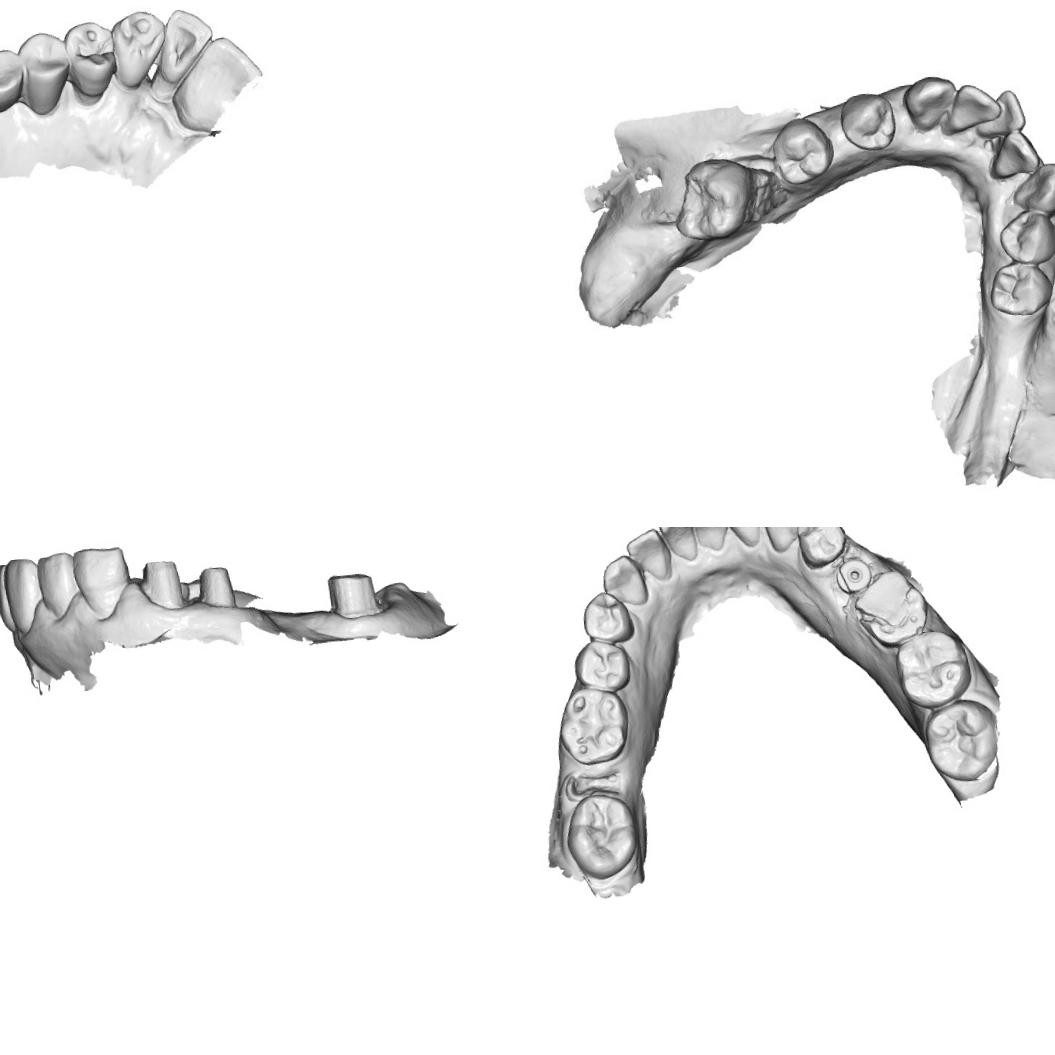canine: (112, 10, 168, 92), (902, 74, 961, 133), (598, 551, 652, 612), (1009, 163, 1055, 217), (758, 527, 807, 555)
implant: (830, 554, 875, 598)
incisor: (158, 8, 216, 86), (180, 31, 256, 84), (950, 78, 1006, 139), (623, 527, 674, 585), (977, 82, 1028, 138), (986, 132, 1036, 182), (654, 527, 699, 566), (721, 527, 768, 552), (688, 527, 730, 554)
molar: (668, 153, 761, 245), (560, 787, 647, 885), (917, 697, 1004, 787), (848, 563, 934, 654), (891, 622, 977, 712), (552, 682, 634, 770)
premolar: (17, 29, 75, 118), (768, 112, 836, 186), (62, 20, 118, 102), (570, 634, 634, 695), (841, 88, 899, 151), (989, 259, 1052, 316), (576, 588, 634, 647), (992, 211, 1055, 265), (794, 527, 852, 572), (0, 46, 25, 112)
